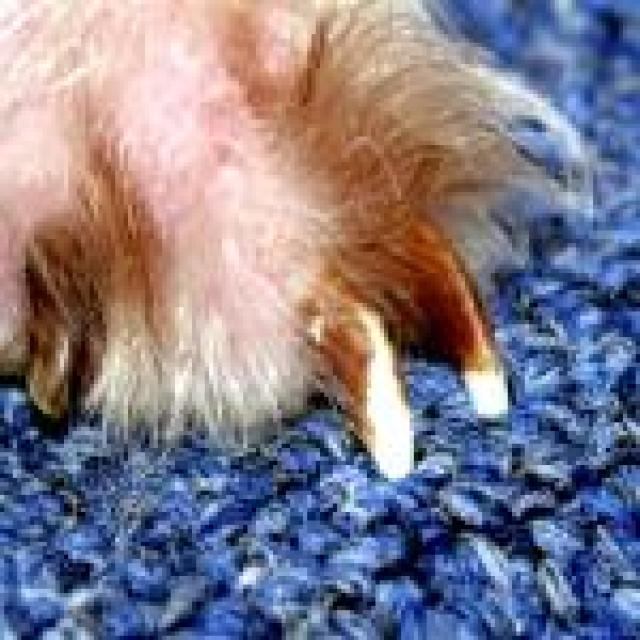fungal infection: (101, 42, 323, 342), (386, 192, 488, 362), (0, 102, 63, 304), (20, 228, 117, 354), (316, 276, 386, 413)
